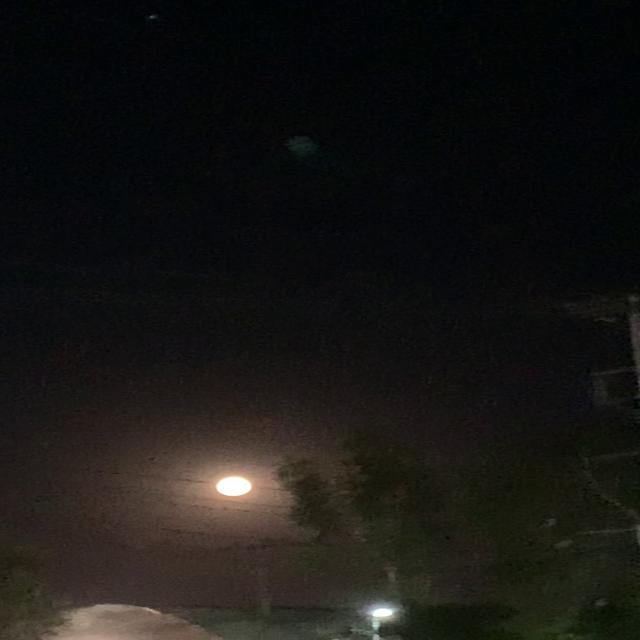moon: (215, 472, 268, 497)
